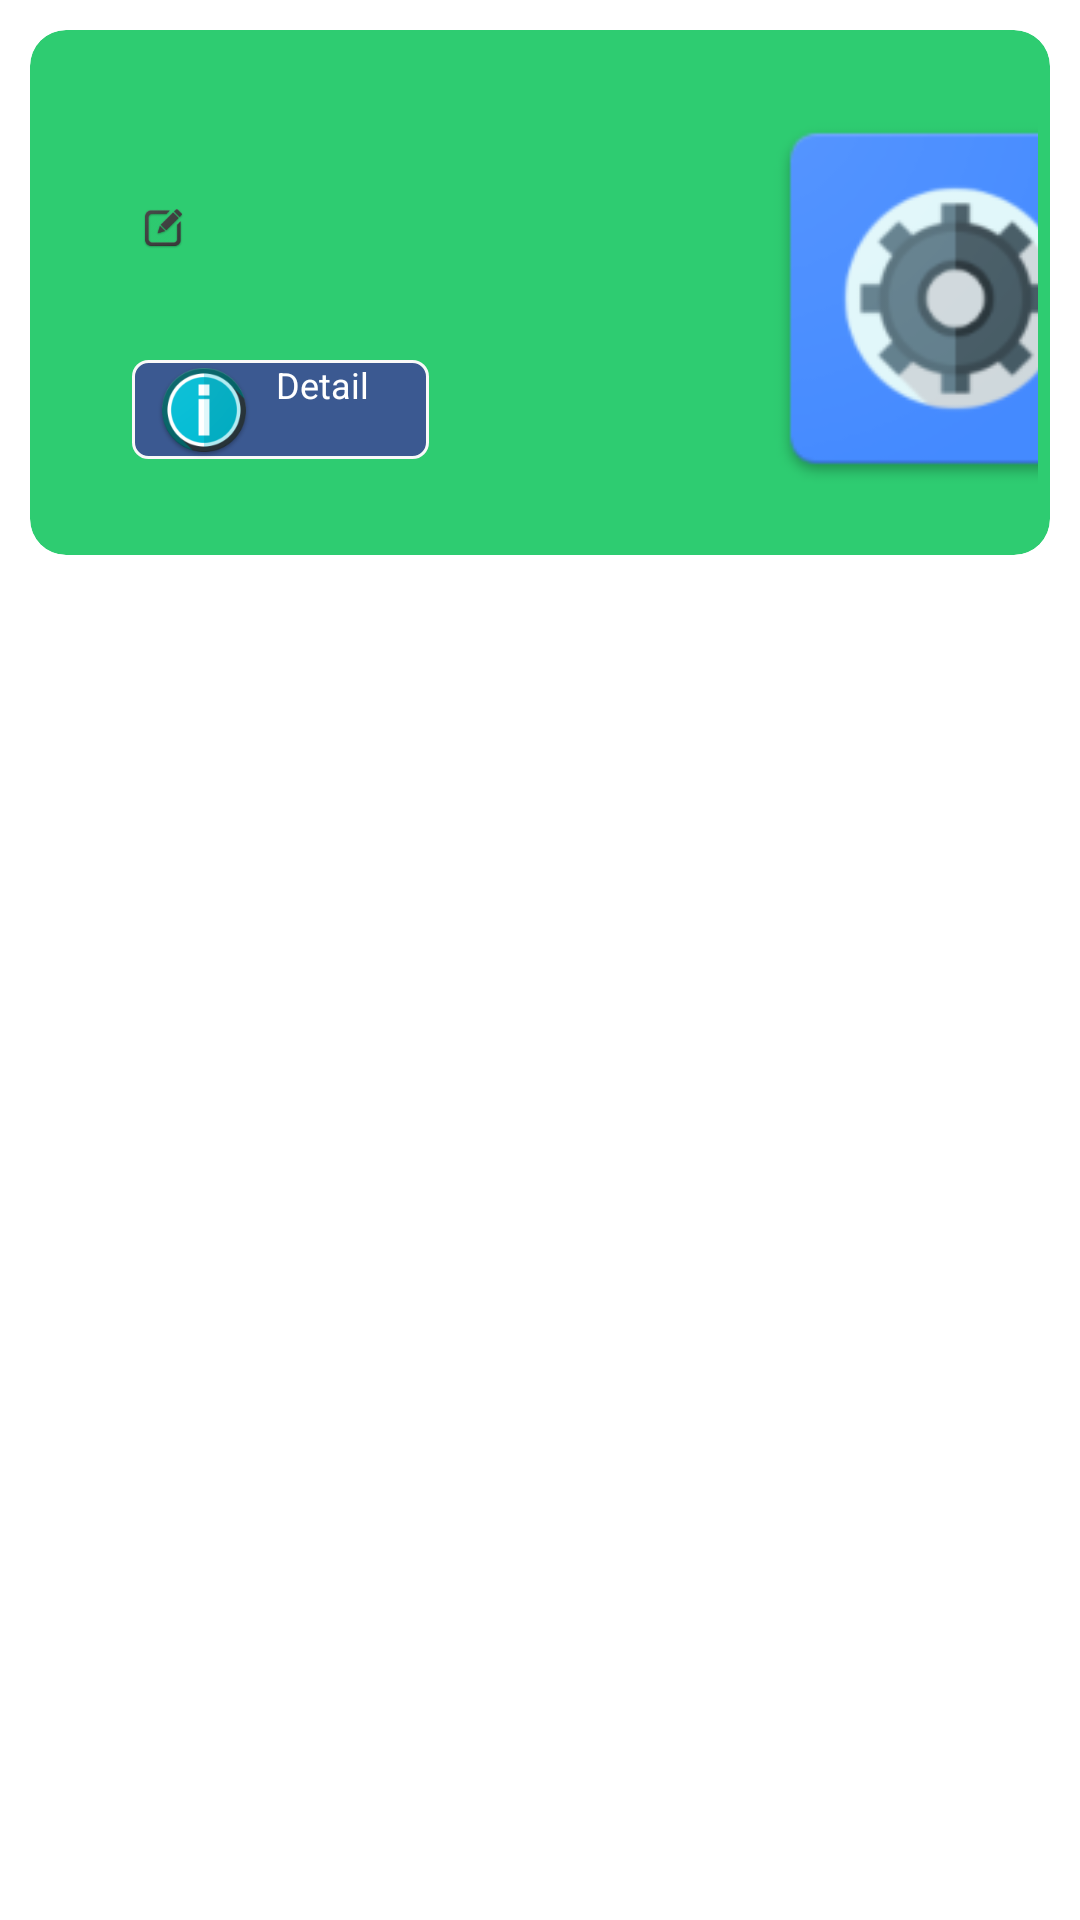

Icon click points for this 1080*1920 phone screenshot, format (x=x, y=y):
edit: (x=163, y=228)
